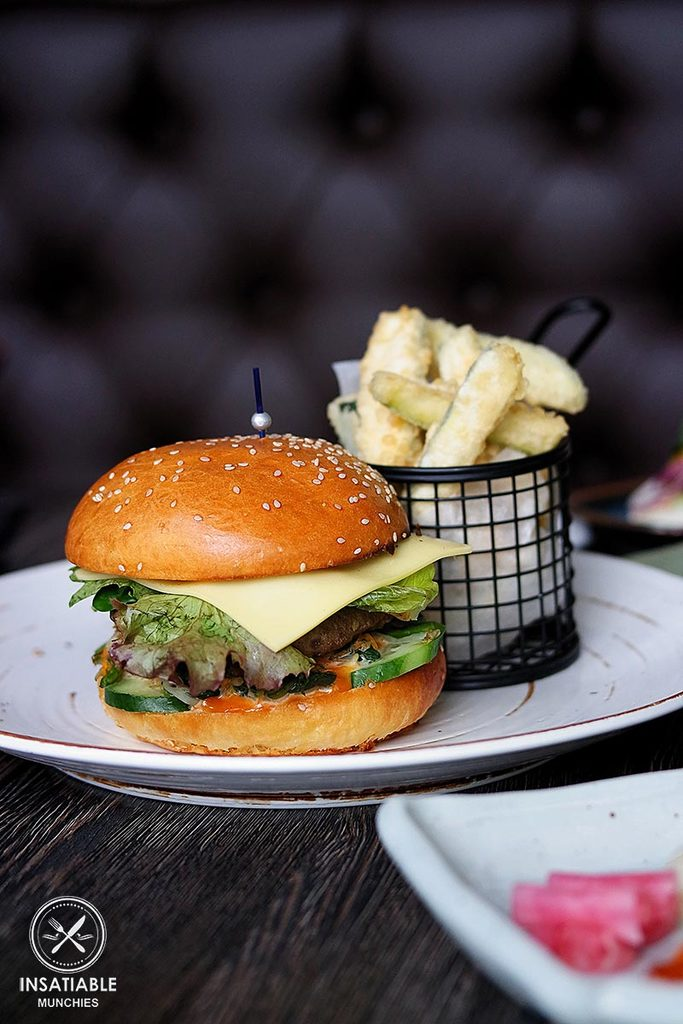Hamburger: (67, 434, 466, 755)
